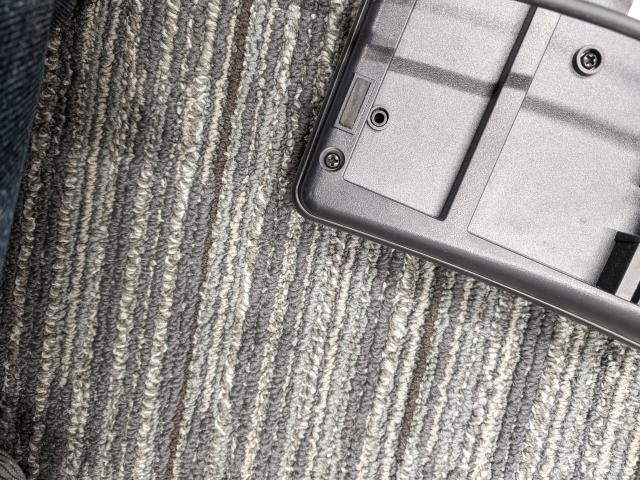CRS: (581, 50, 601, 70), (326, 150, 342, 169)
